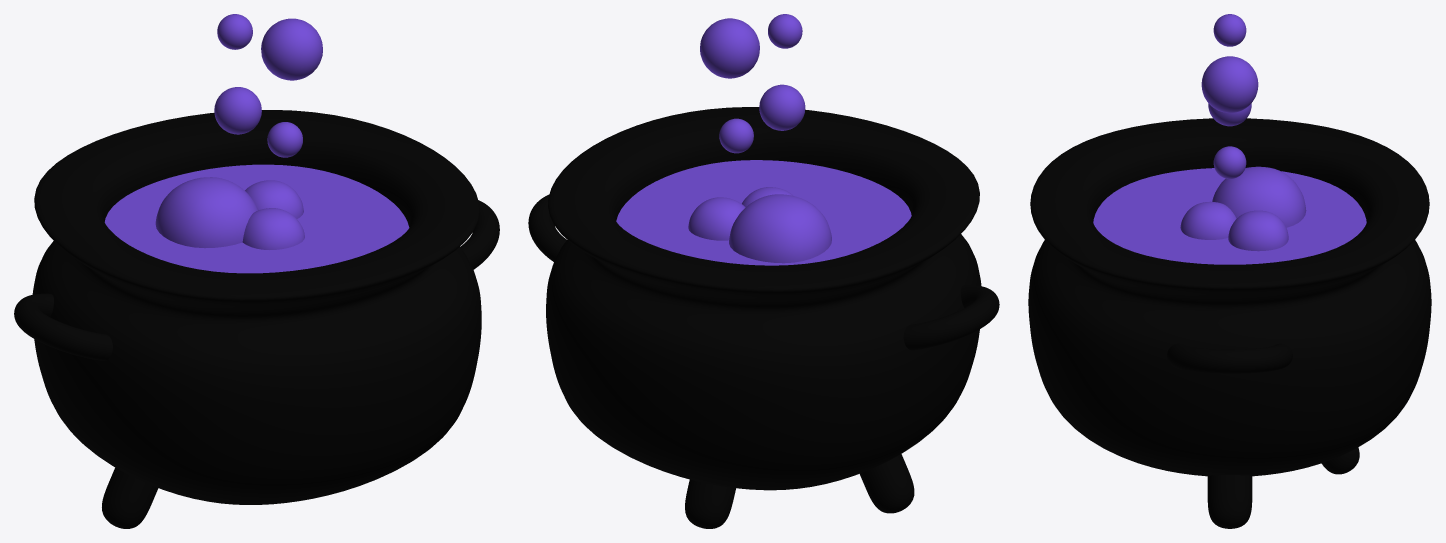
The model's file is caldero_lila.glb.
3 views of the same model, side by side, from view 1: azimuth 30°, elevation 25°; view 2: azimuth 150°, elevation 25°; view 3: azimuth 270°, elevation 25° (orthographic). The views are drawn at different scales.
Visible parts, largest first — view 1: Cubo.002, Círculo, Cubo.006, Toroide.001, Esfera.002, Cubo.003, Esfera.001, Esfera.003, Esfera; view 2: Cubo.002, Círculo, Cubo.006, Toroide.001, Esfera.002, Cubo.003, Cubo.005, Esfera.001, Esfera, Esfera.003; view 3: Cubo.002, Círculo, Cubo.006, Toroide.001, Esfera.002, Cubo.003, Esfera.003, Esfera, Cubo.005, Esfera.001.
Boxes of the visible parts, x1,y1,x2,y2 form: Cubo.002: [32, 110, 481, 504]; Círculo: [104, 164, 409, 273]; Cubo.006: [155, 177, 304, 249]; Toroide.001: [14, 200, 499, 360]; Esfera.002: [261, 18, 322, 80]; Cubo.003: [102, 467, 158, 528]; Esfera.001: [214, 87, 261, 134]; Esfera.003: [217, 14, 252, 49]; Esfera: [267, 122, 302, 157]; Cubo.002: [546, 107, 981, 490]; Círculo: [616, 160, 911, 265]; Cubo.006: [688, 187, 831, 263]; Toroide.001: [528, 194, 999, 350]; Esfera.002: [700, 18, 759, 78]; Cubo.003: [860, 454, 914, 513]; Cubo.005: [685, 479, 735, 528]; Esfera.001: [759, 84, 805, 130]; Esfera: [719, 118, 753, 153]; Esfera.003: [768, 14, 802, 48]; Cubo.002: [1028, 118, 1431, 476]; Círculo: [1093, 168, 1366, 264]; Cubo.006: [1180, 166, 1306, 251]; Toroide.001: [1167, 343, 1292, 373]; Esfera.002: [1201, 56, 1258, 112]; Cubo.003: [1207, 475, 1252, 528]; Esfera.003: [1213, 14, 1246, 46]; Esfera: [1213, 146, 1246, 178]; Cubo.005: [1321, 447, 1359, 474]; Esfera.001: [1208, 103, 1251, 126].
Size of the model in its own units: 6.42 by 6.43 by 5.25.
